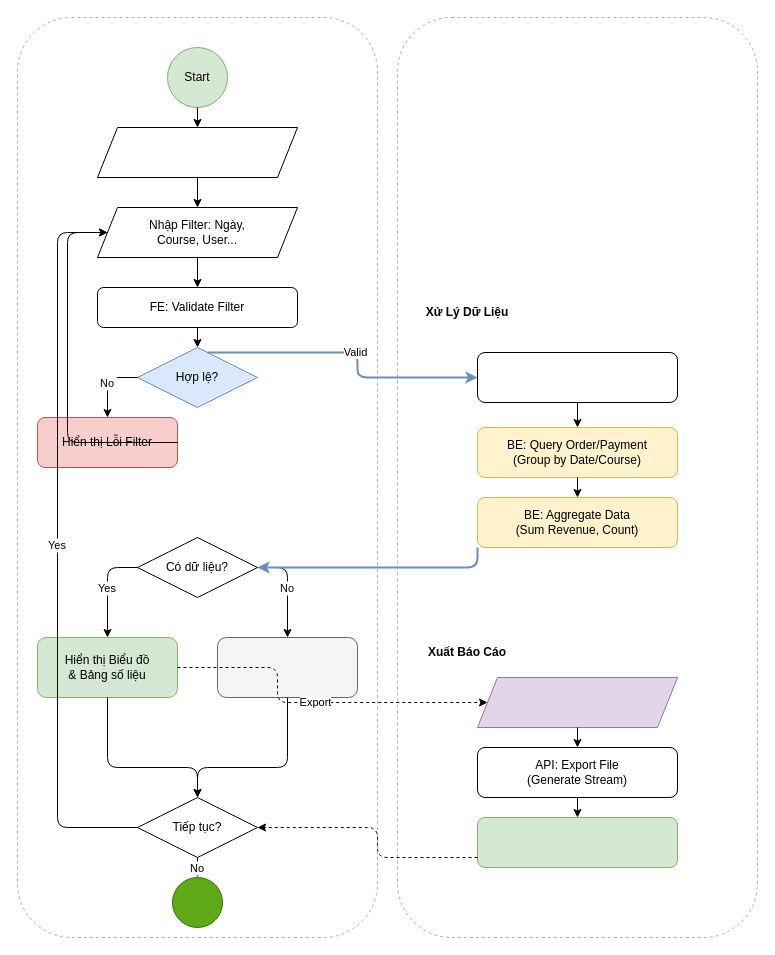
This 775x955 diagram has some shape labels left out. The shapes that lost their labels are listed below. From the top down, each one's centre as x and y in pixels, then its label:
point 197,152: Mở màn hình Thống kê Doanh thu
point 577,377: API: GET Revenue (with filters)
point 287,667: Hiện: "Không có dữ liệu"
point 577,702: User Click: Export (Excel/PDF)
point 577,842: Browser Download File Báo Cáo
point 197,902: End
